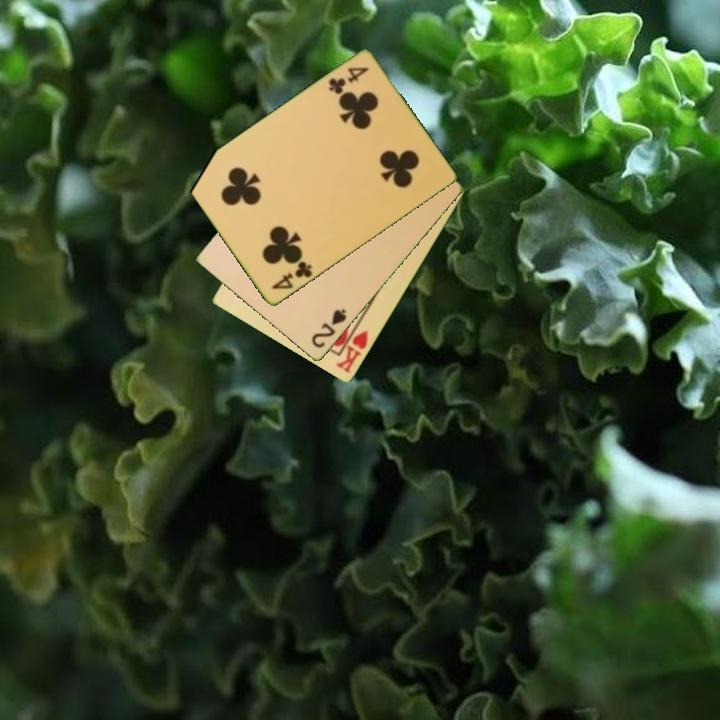2s: (308, 305, 349, 351)
4c: (268, 258, 315, 293), (325, 64, 372, 98)
Kh: (332, 319, 371, 376)
